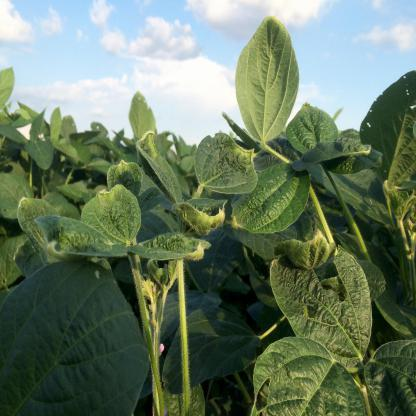Soyabean leaf: (235, 14, 300, 148)
